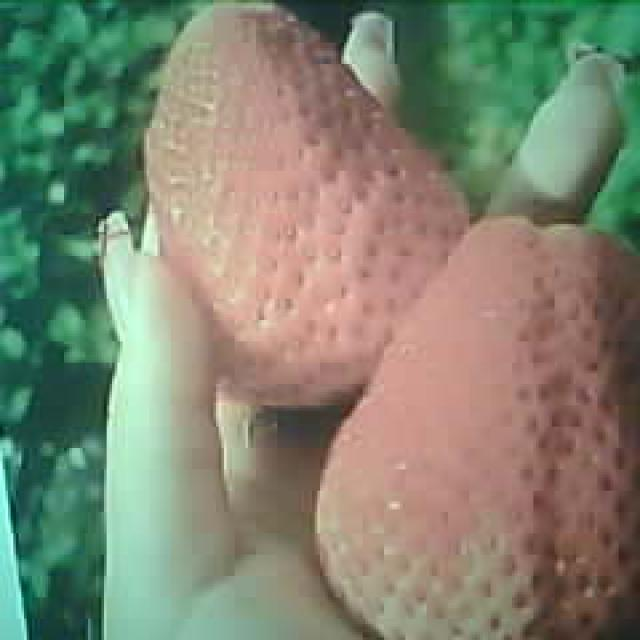strawberry: (314, 222, 640, 640), (147, 3, 470, 410)
